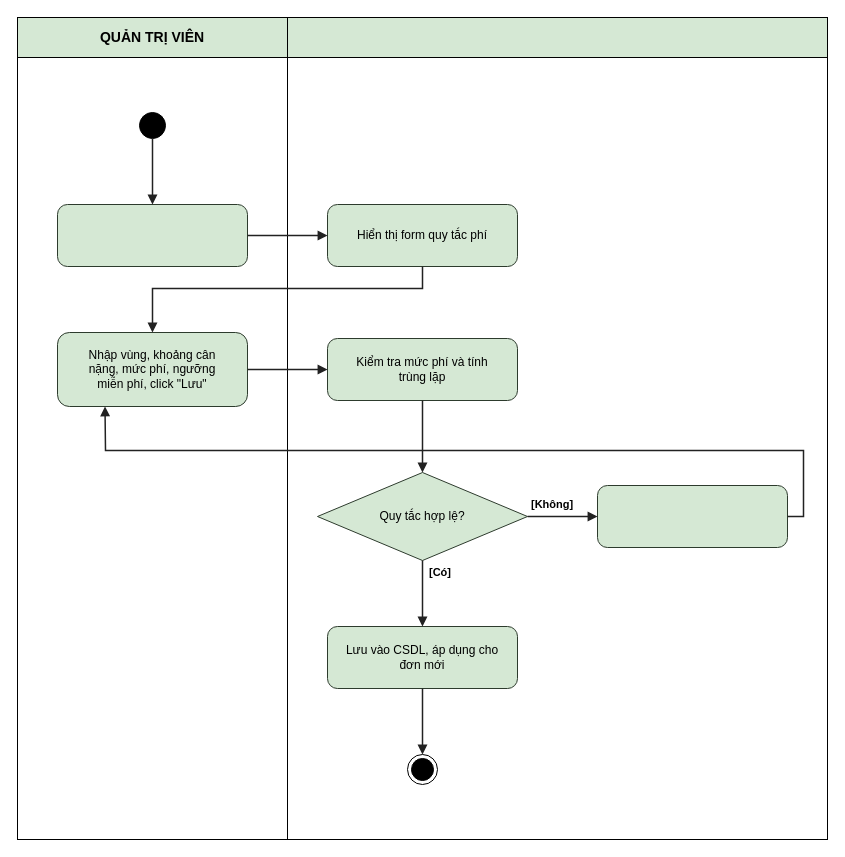
Image size: 845x857. Some labels were removed from this diagram. The box of each missing label's shape, as (x1, y1, x2, y2) in pixels:
HỆ THỐNG: (286, 16, 828, 58)
Thông báo mức phí sai hoặc quy tắc trùng: (596, 484, 788, 548)
Vào "Phí vận chuyển", click "Thêm quy tắc mới": (56, 204, 248, 266)
